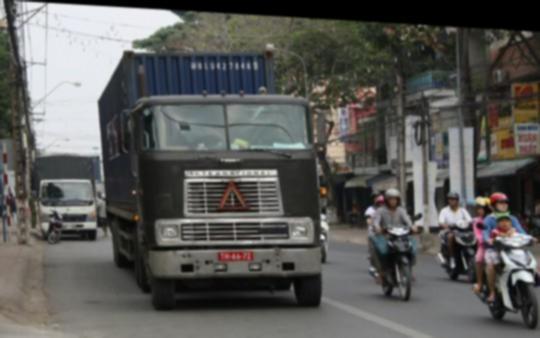License_Plate: (218, 249, 254, 263)
